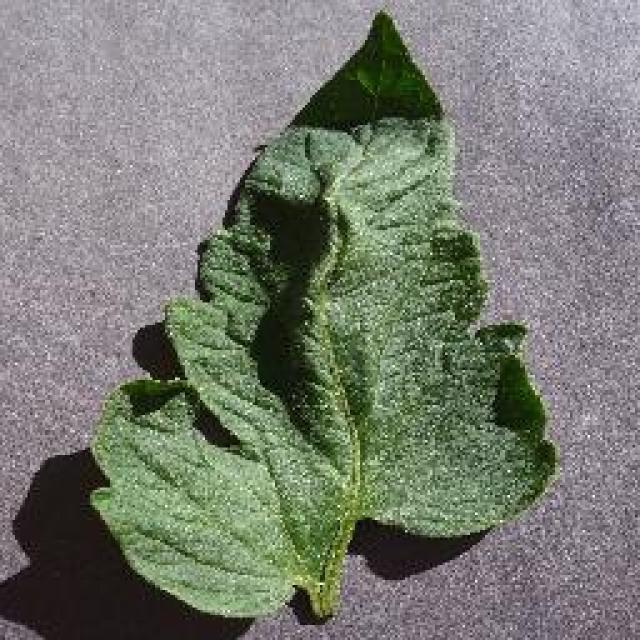Tomato_Healthy: (57, 23, 573, 624)
